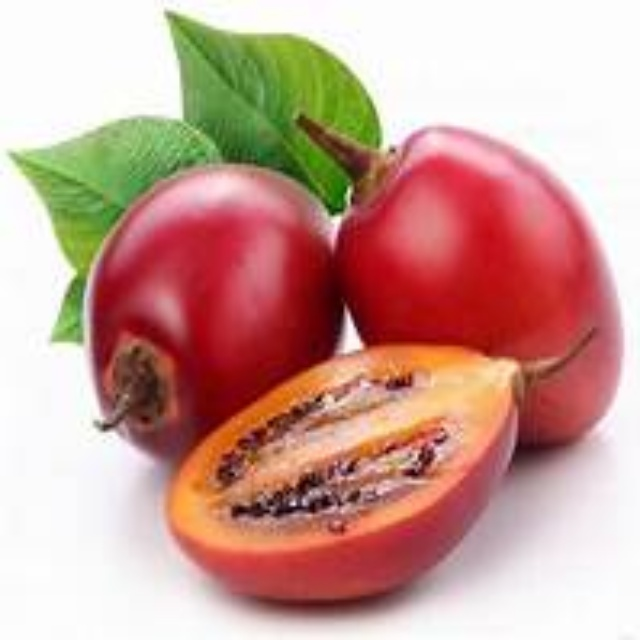tomato: (147, 328, 524, 611), (328, 105, 632, 445), (55, 144, 349, 469)
